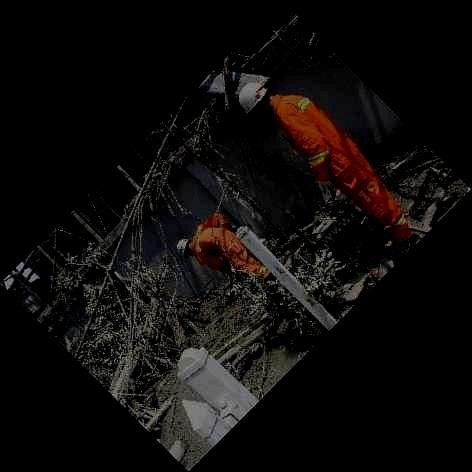helmet: (238, 82, 268, 116), (175, 239, 193, 258)
